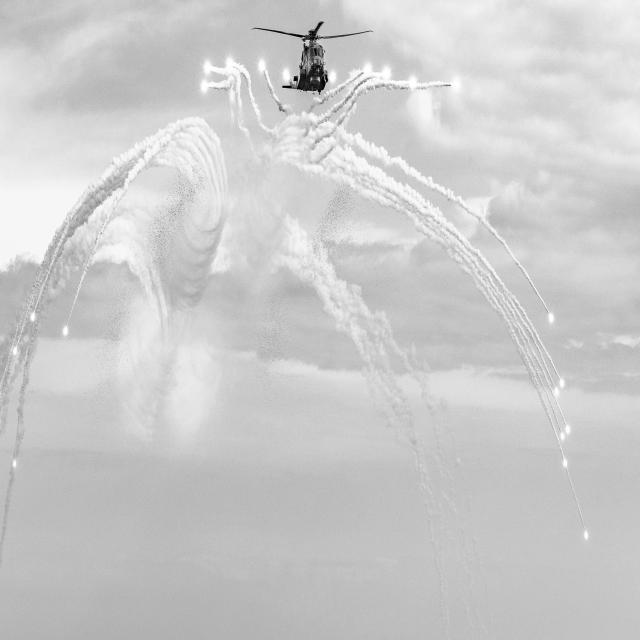helicopter: (253, 1, 377, 99)
